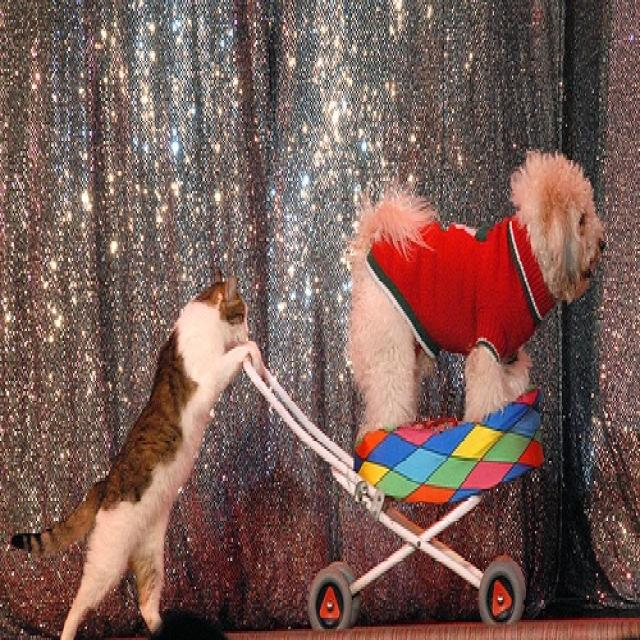cat: (9, 269, 264, 638)
dog: (347, 151, 605, 440)
